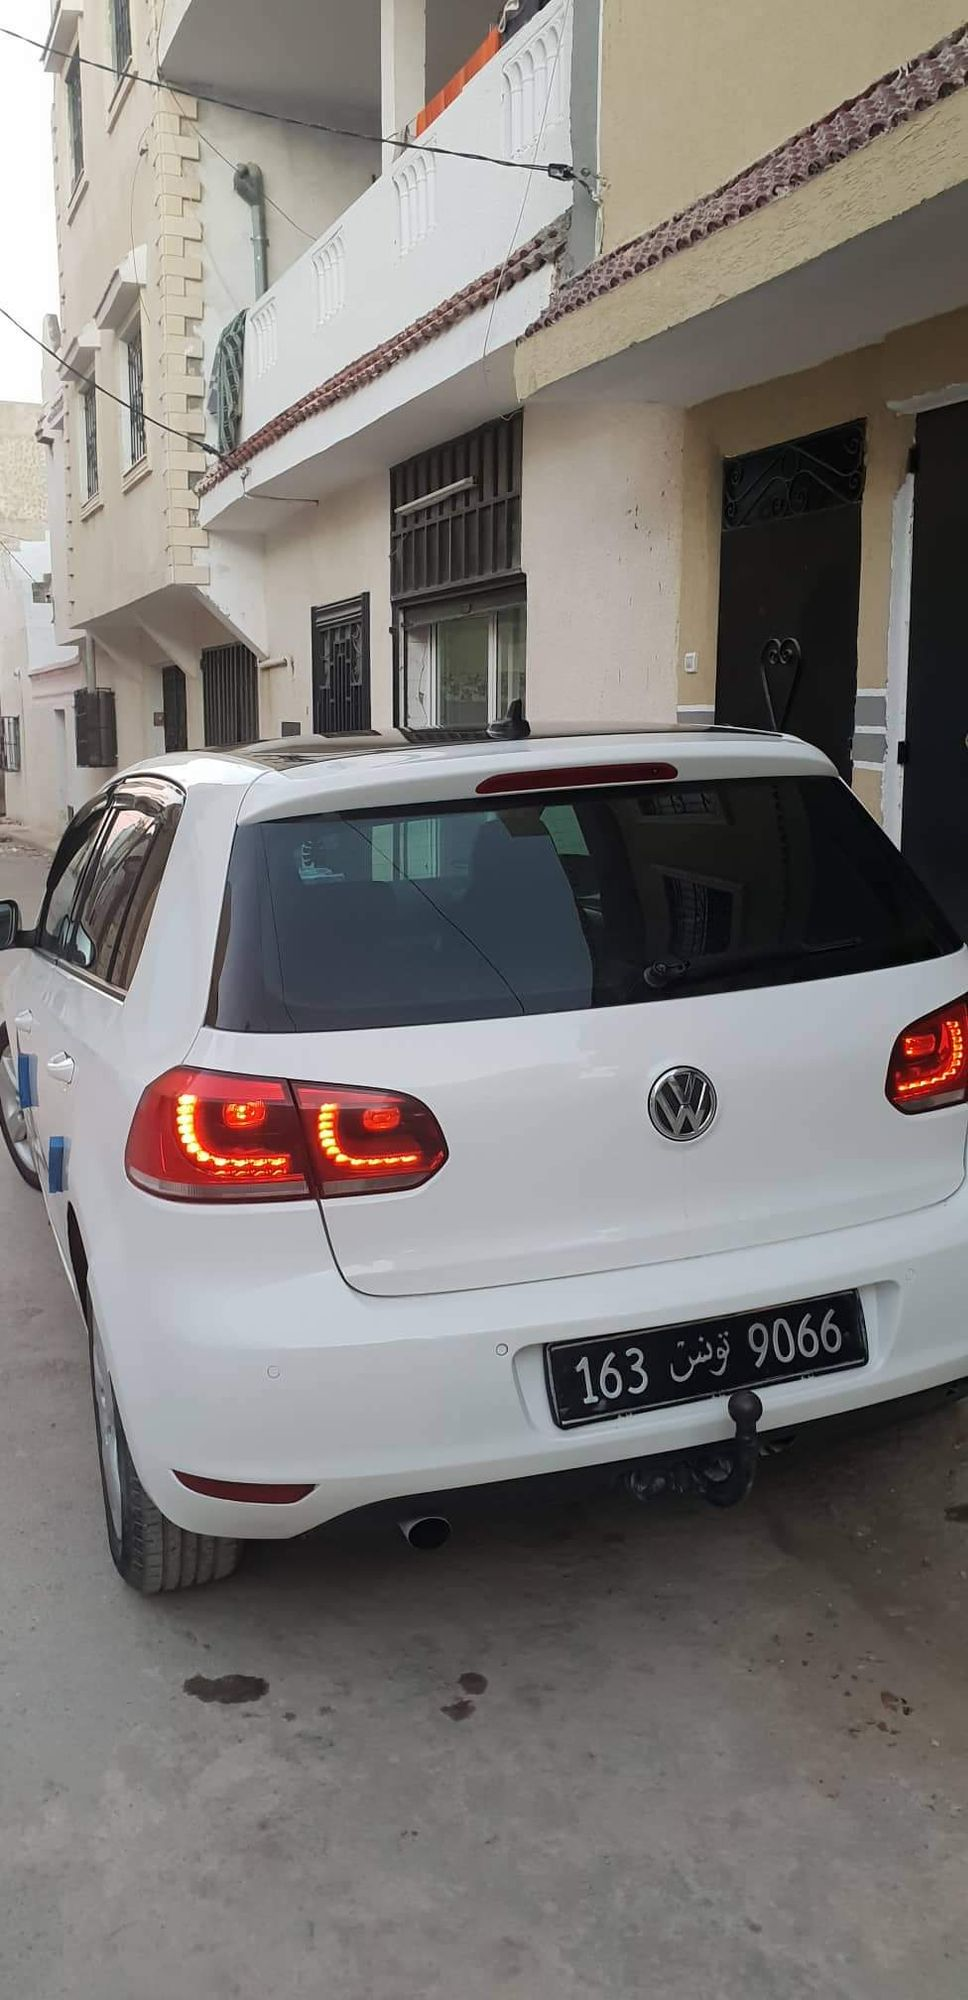LP: (536, 1280, 872, 1427)
